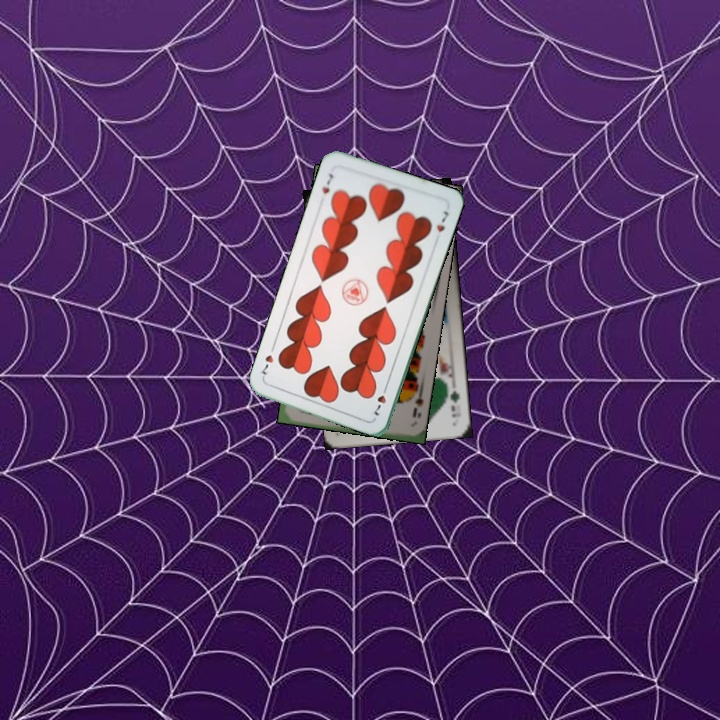GK: (446, 386, 464, 420)
H7: (368, 381, 390, 418), (317, 169, 336, 197)
S9: (406, 385, 426, 420)
